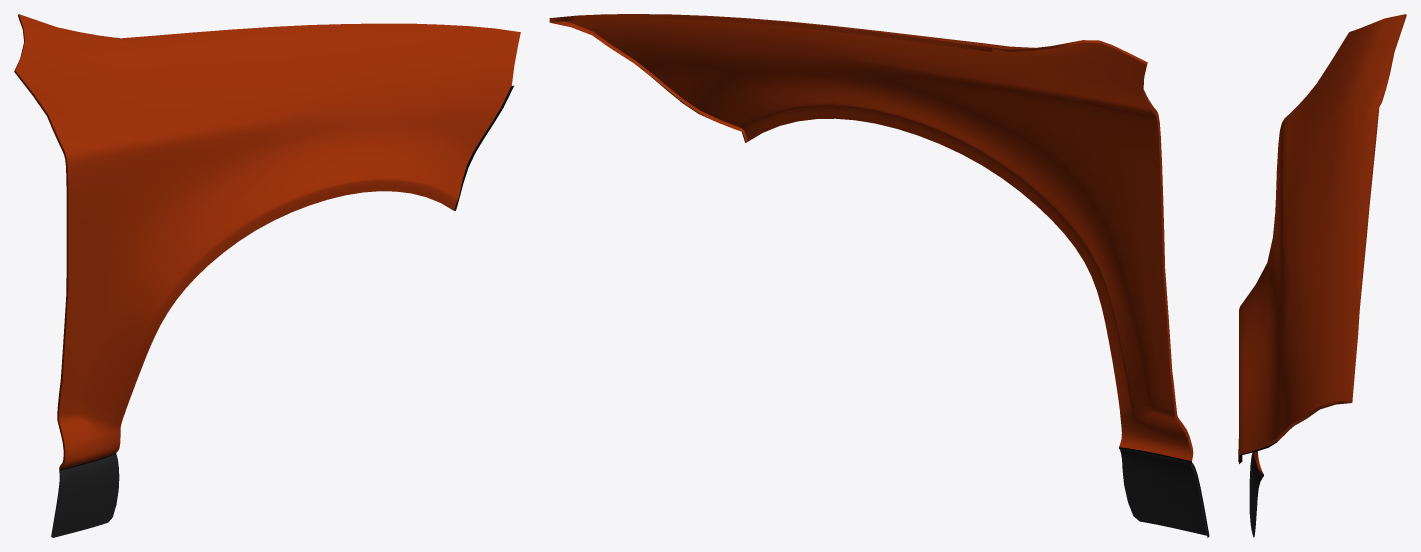
3 views of the same model, side by side, from view 1: azimuth 30°, elevation 25°; view 2: azimuth 150°, elevation 25°; view 3: azimuth 270°, elevation 25° (orthographic). The views are drawn at different scales.
Visible parts, largest first — view 1: U236_17_141B_R_U236_17_141B_R_1_DaS, U236_17_141B_R_U236_17_141B_R_2_D, U236_17_141B_R_U236_17_141B_R_1_DaS_E; view 2: U236_17_141B_R_U236_17_141B_R_1_DaS, U236_17_141B_R_U236_17_141B_R_2_D, U236_17_141B_R_U236_17_141B_R_1_DaS_E; view 3: U236_17_141B_R_U236_17_141B_R_1_DaS, U236_17_141B_R_U236_17_141B_R_1_DaS_E, U236_17_141B_R_U236_17_141B_R_2_D.
Boxes of the visible parts, bbox=[...] form: U236_17_141B_R_U236_17_141B_R_1_DaS: bbox=[15, 14, 520, 468]; U236_17_141B_R_U236_17_141B_R_2_D: bbox=[51, 454, 119, 537]; U236_17_141B_R_U236_17_141B_R_1_DaS_E: bbox=[14, 14, 117, 468]; U236_17_141B_R_U236_17_141B_R_1_DaS: bbox=[565, 14, 1191, 460]; U236_17_141B_R_U236_17_141B_R_2_D: bbox=[1119, 448, 1209, 537]; U236_17_141B_R_U236_17_141B_R_1_DaS_E: bbox=[549, 14, 1193, 461]; U236_17_141B_R_U236_17_141B_R_1_DaS: bbox=[1238, 14, 1405, 474]; U236_17_141B_R_U236_17_141B_R_1_DaS_E: bbox=[1238, 14, 1406, 461]; U236_17_141B_R_U236_17_141B_R_2_D: bbox=[1249, 452, 1263, 537].
Size of the model in its own units: 99.03 by 85.36 by 25.42.
